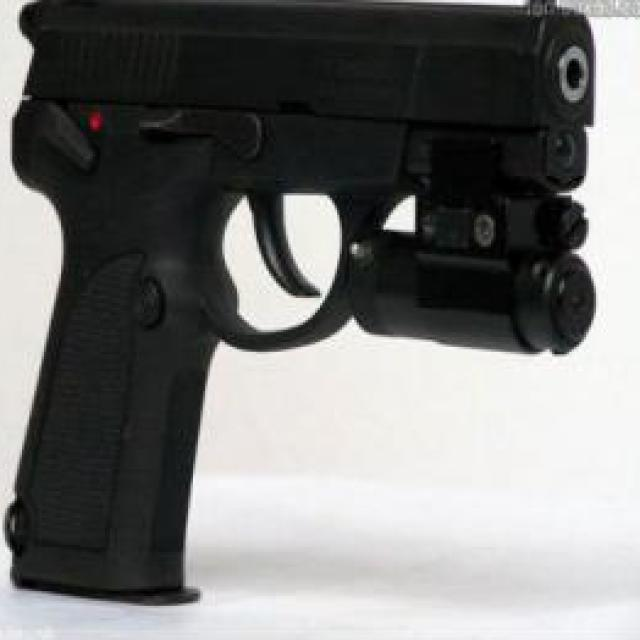pistol: (5, 0, 601, 601)
